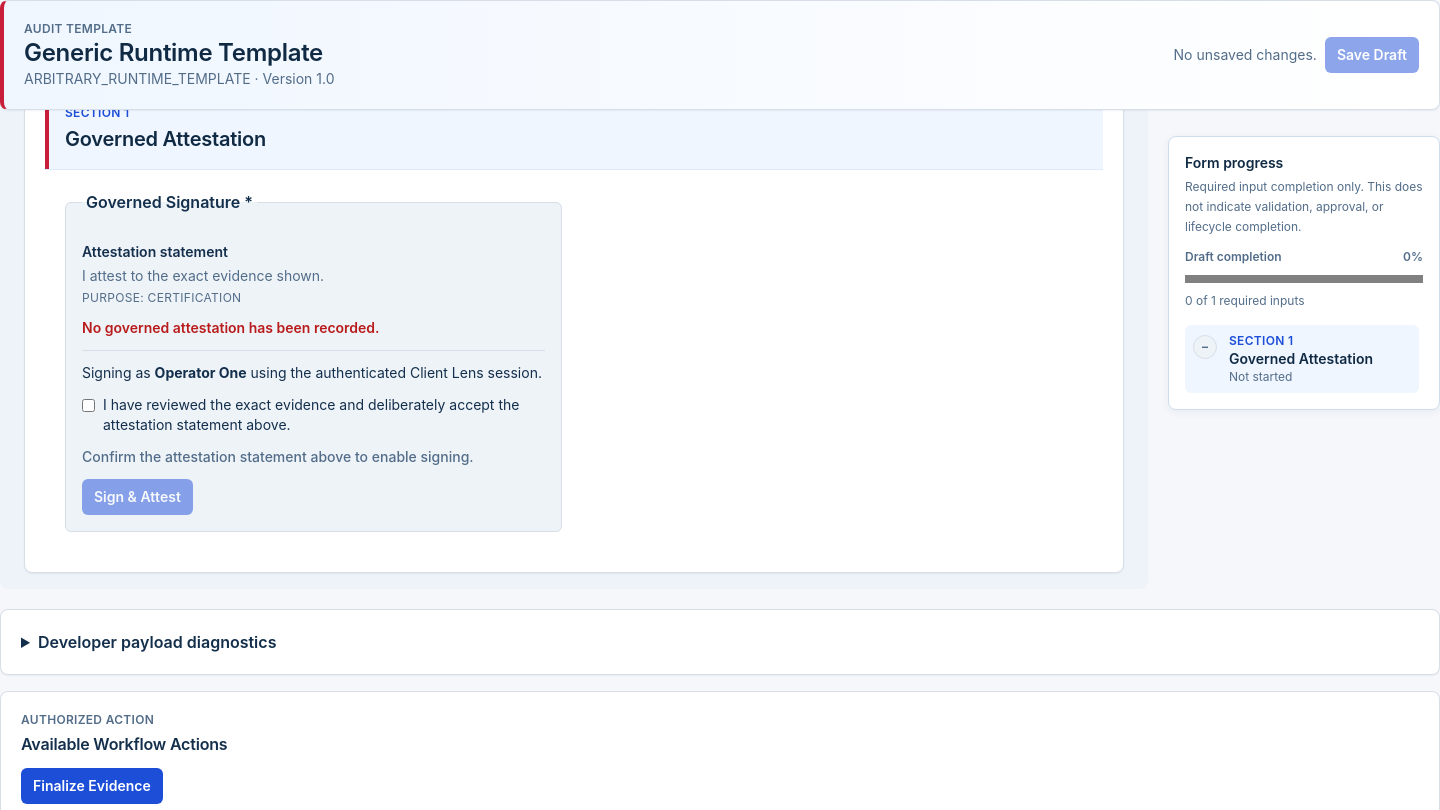
Test case: Generic OETS renderer › integrates server-confirmed attestation state and recovers safely from signing failure
(page scrolled)
Click the checkbox: (88, 406) [82,399,95,412]
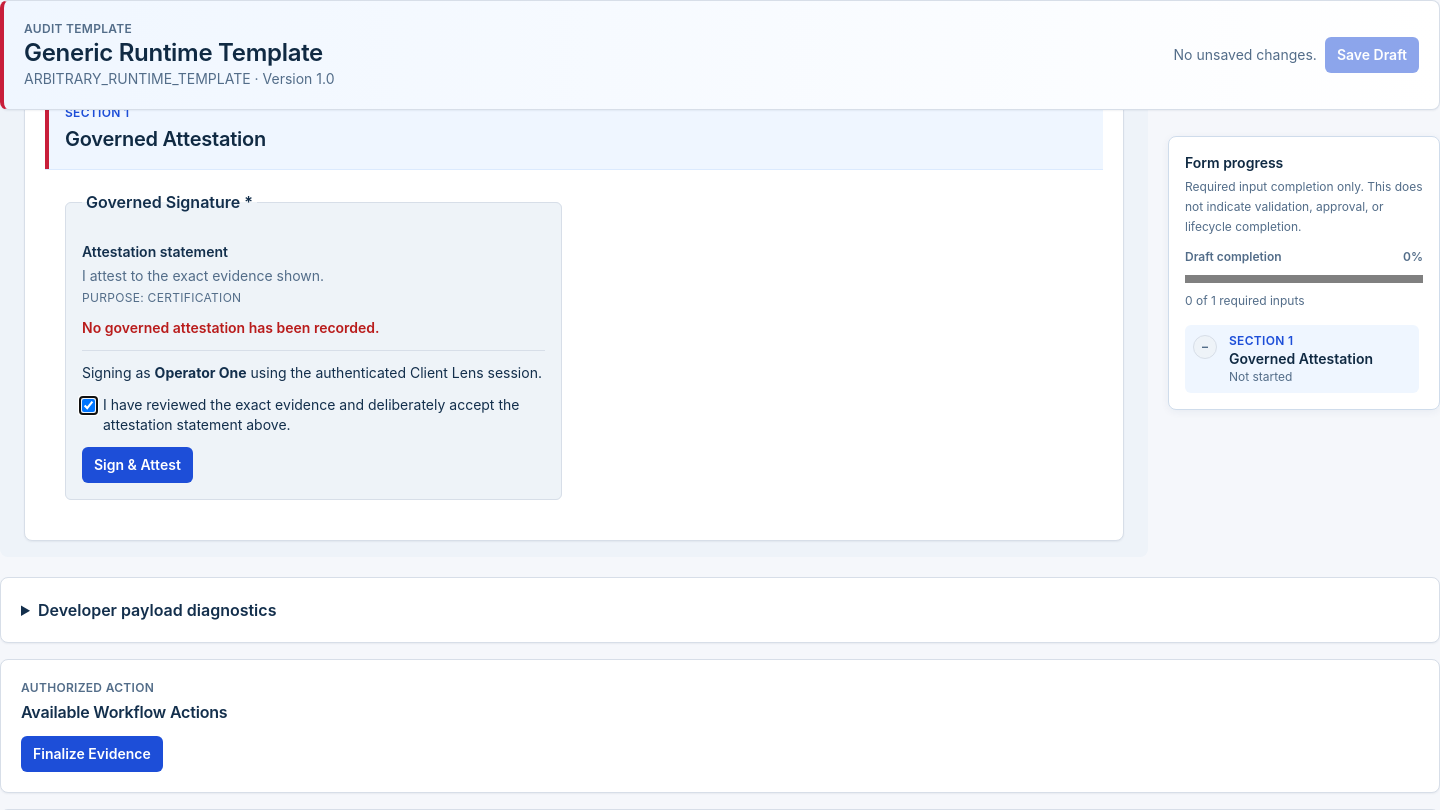
Click the button "Sign & Attest": (137, 465) [82,447,193,483]
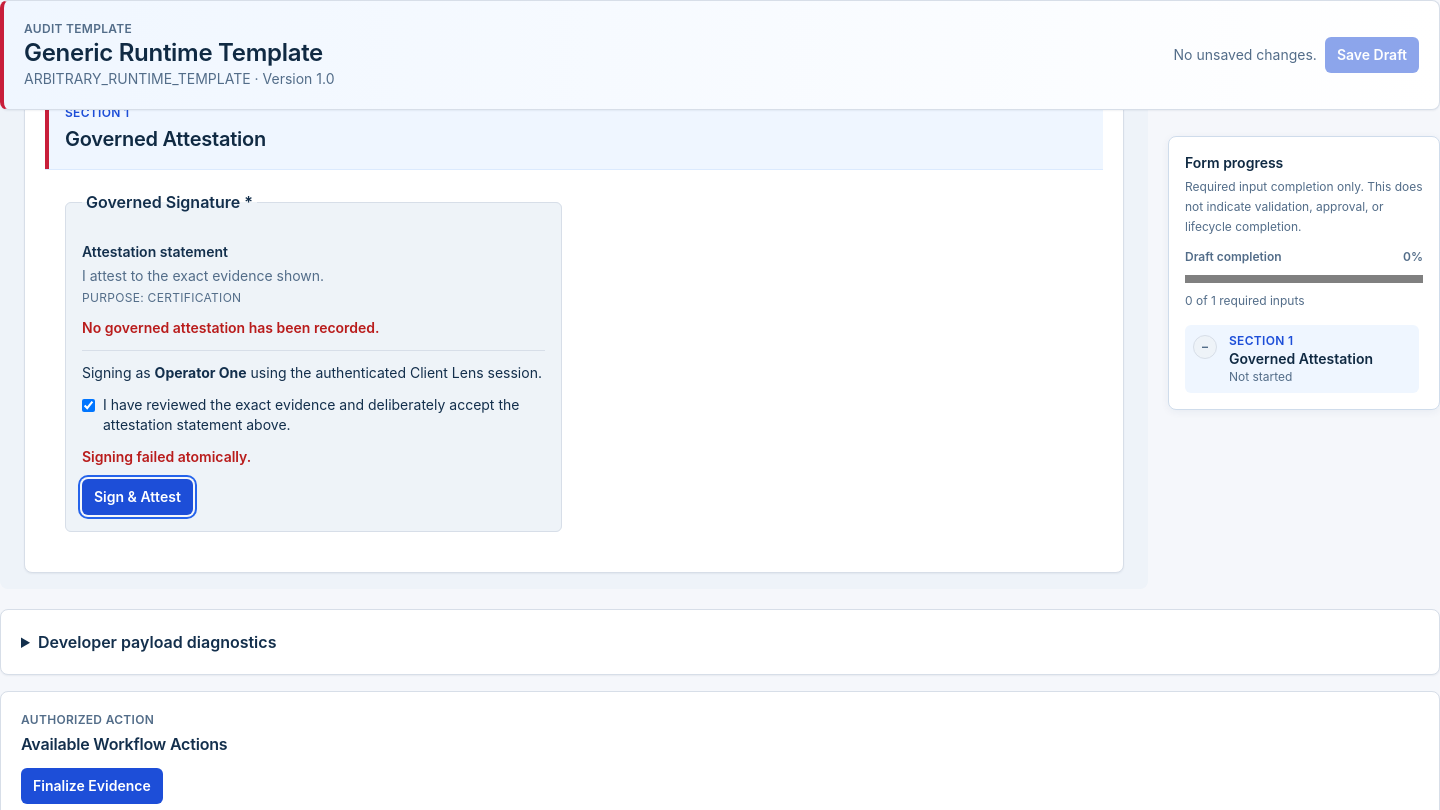
Check: the text "No governed attestation has been recorded." is shown, box [82,319,380,336]
Check: the message reads "Signing failed atomically.", box [82,448,251,465]
Click the button "Sign & Attest": (137, 497) [82,479,193,515]
(page scrolled)
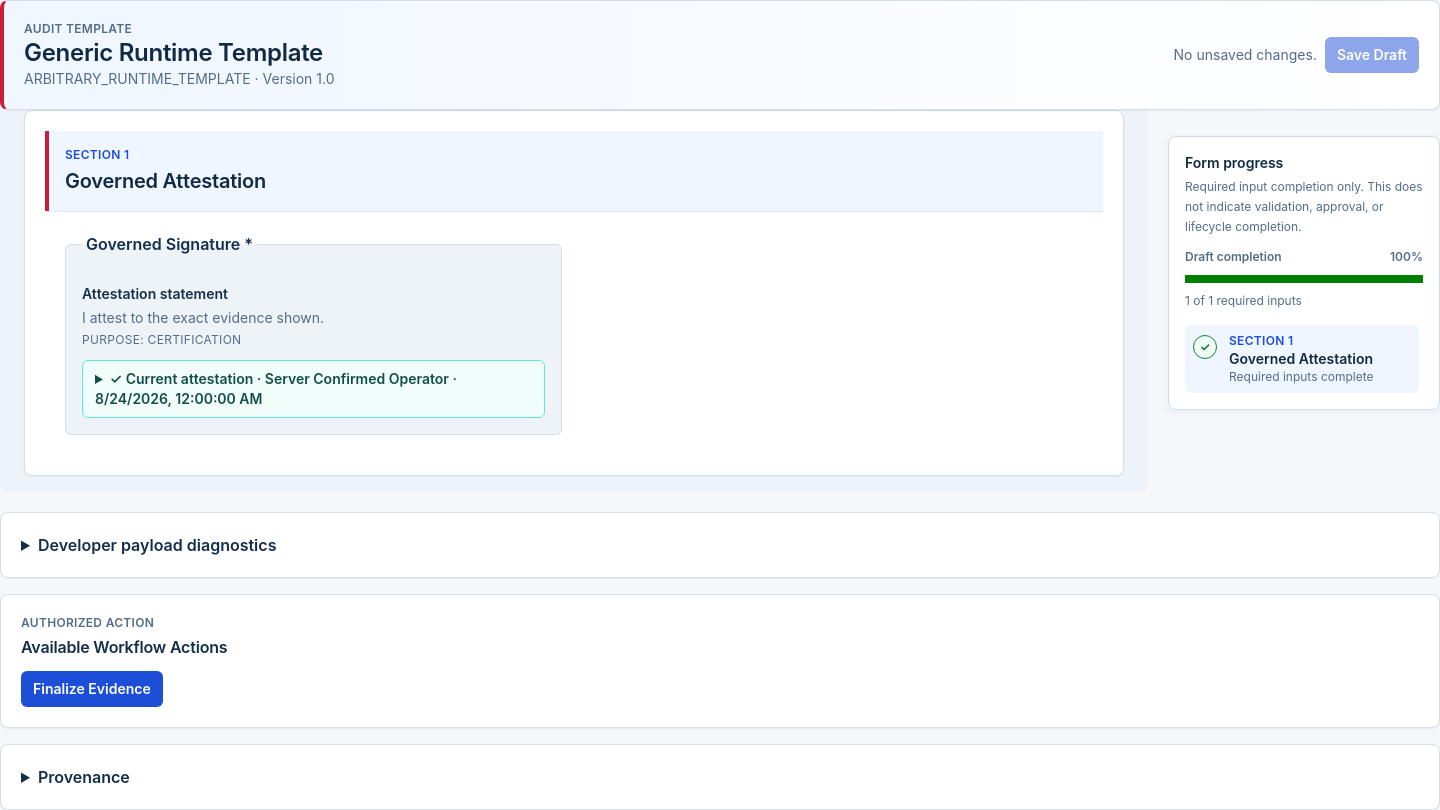
Check: the text "Current attestation" is shown, box [126,370,253,387]
